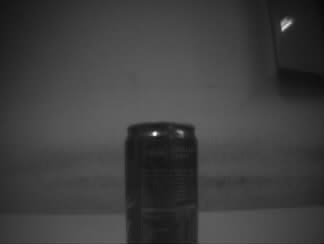Tin can: (123, 121, 200, 244)
